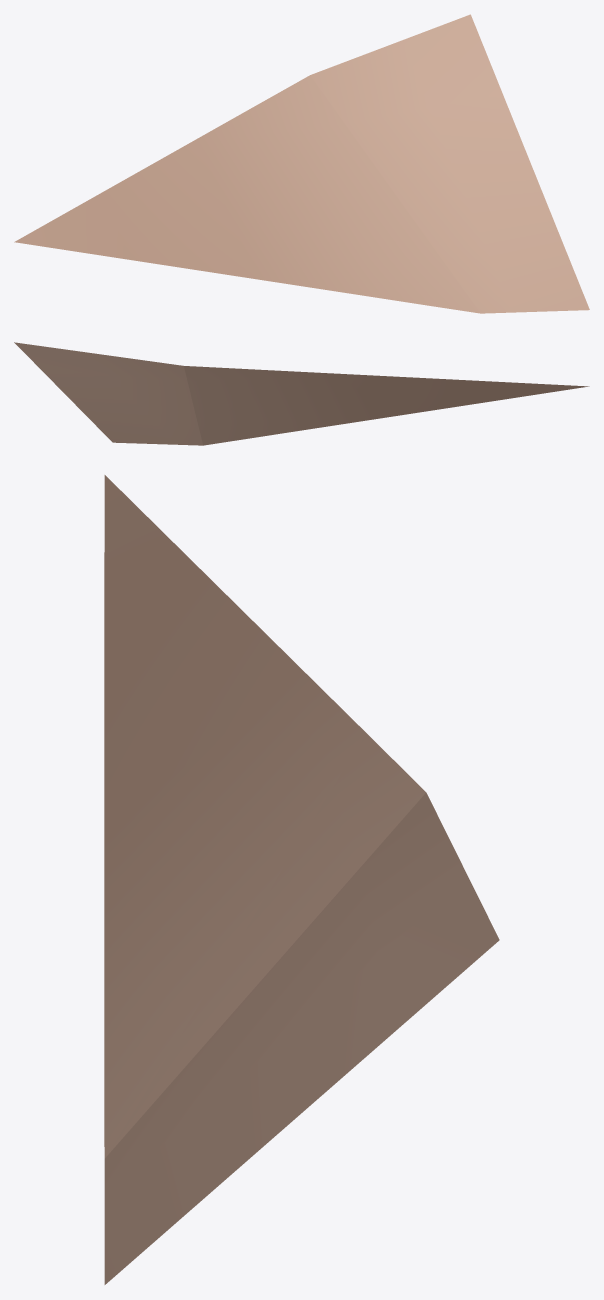
3 views of the same model, one above another, from view 1: azimuth 30°, elevation 25°; view 2: azimuth 150°, elevation 25°; view 3: azimuth 270°, elevation 25° (orthographic). The views are drawn at different scales.
Size of the model in its own units: 0.014 by 0.00485 by 0.00504.
Materials: 1 (1 with a texture image).
